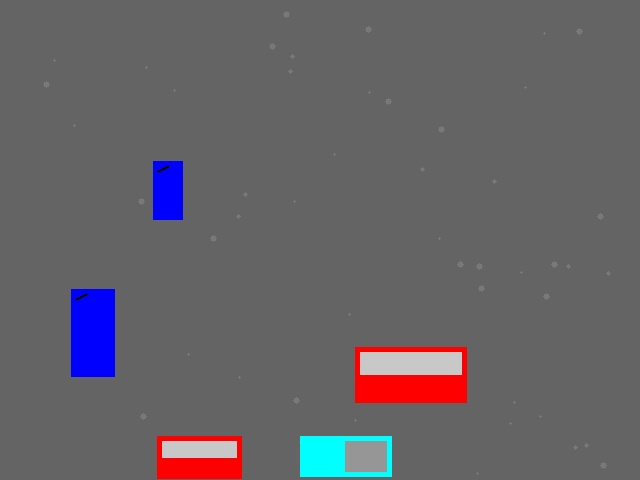car: (355, 347, 466, 402), (157, 436, 241, 478)
motorcycle: (71, 289, 114, 376), (153, 161, 182, 219)
truck: (300, 436, 391, 476)
